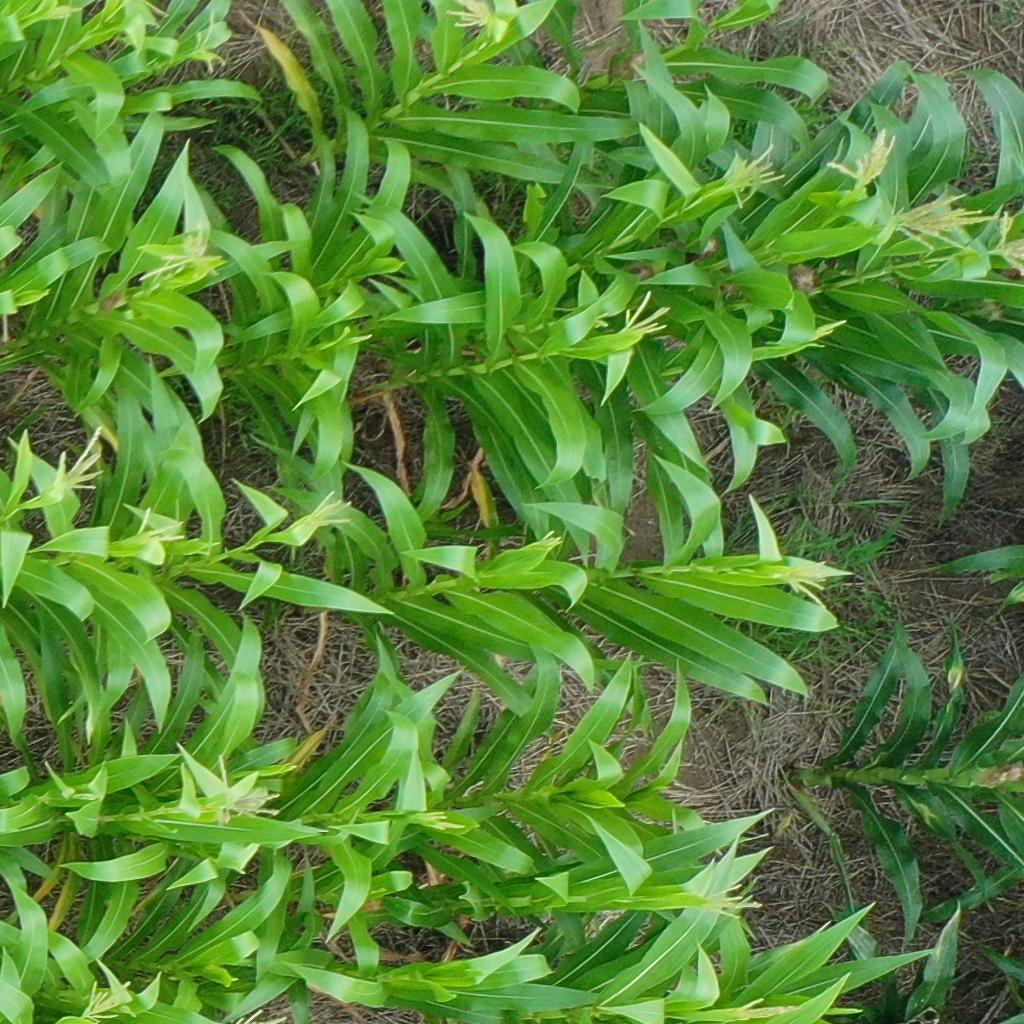Tassel: (893, 191, 998, 253), (137, 221, 224, 285), (215, 754, 284, 826), (824, 128, 897, 187), (53, 425, 106, 499), (729, 146, 787, 210), (777, 558, 831, 611), (703, 883, 763, 925), (191, 11, 229, 75), (623, 289, 671, 338), (83, 977, 129, 1024), (136, 506, 186, 547), (993, 211, 1024, 276), (734, 995, 798, 1024), (403, 808, 466, 835), (309, 491, 354, 528), (443, 6, 492, 30), (811, 318, 849, 342), (48, 1, 83, 23), (237, 1009, 288, 1024), (346, 332, 373, 352), (543, 530, 564, 550), (592, 312, 610, 332)
